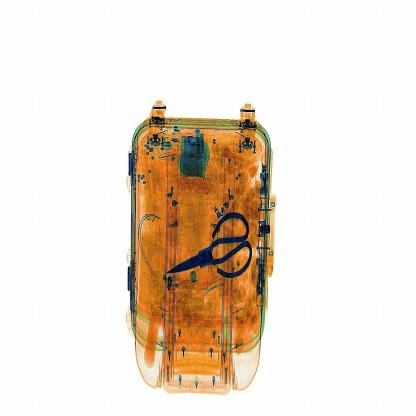gun: (160, 197, 260, 299)
